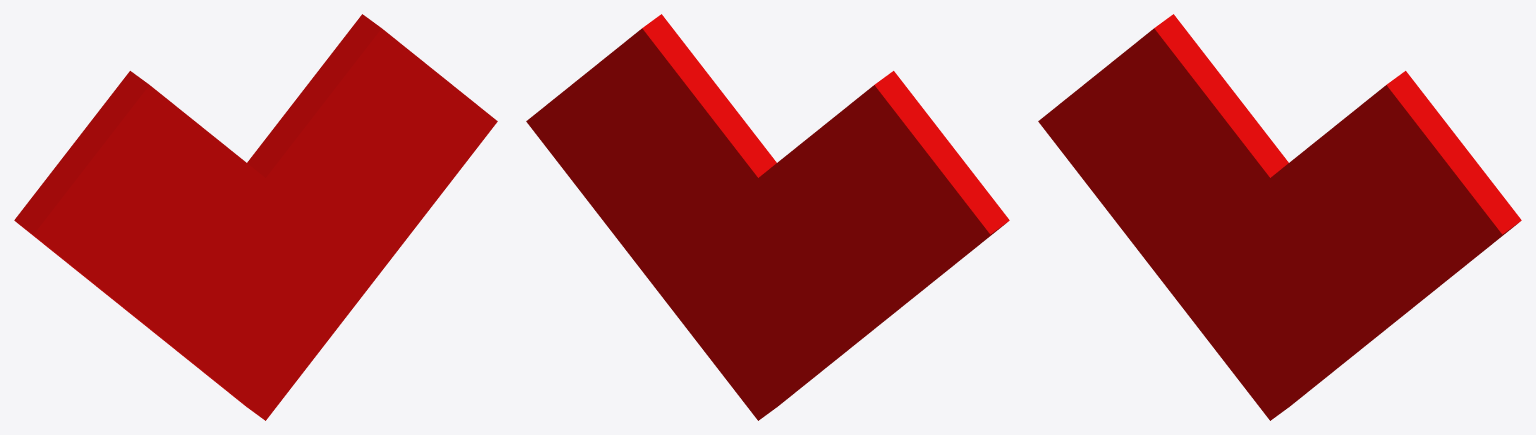
Rendered from hearth.fbx.
The picture shows the model from 3 angles, left to right: view 1: azimuth 30°, elevation 25°; view 2: azimuth 150°, elevation 25°; view 3: azimuth 330°, elevation 25°; orthographic projection.
Parts seen in each view (by area): view 1: Cube.001; view 2: Cube.001; view 3: Cube.001.
Boxes of the visible parts, bbox=[...] form: Cube.001: bbox=[14, 14, 497, 420]; Cube.001: bbox=[526, 14, 1009, 420]; Cube.001: bbox=[1038, 14, 1521, 420].
Size of the model in its own units: 566 by 424 by 41.03.
